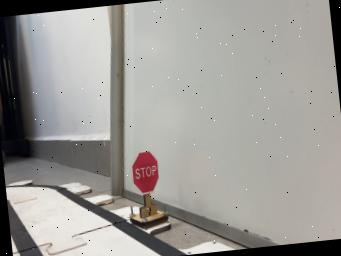stop: (130, 150, 167, 228), (130, 150, 167, 228), (130, 150, 167, 228), (130, 150, 167, 228), (130, 150, 167, 228), (130, 150, 167, 228)
street: (5, 185, 187, 256), (5, 185, 187, 256), (5, 185, 187, 256), (5, 185, 187, 256), (5, 185, 187, 256), (5, 185, 187, 256)
